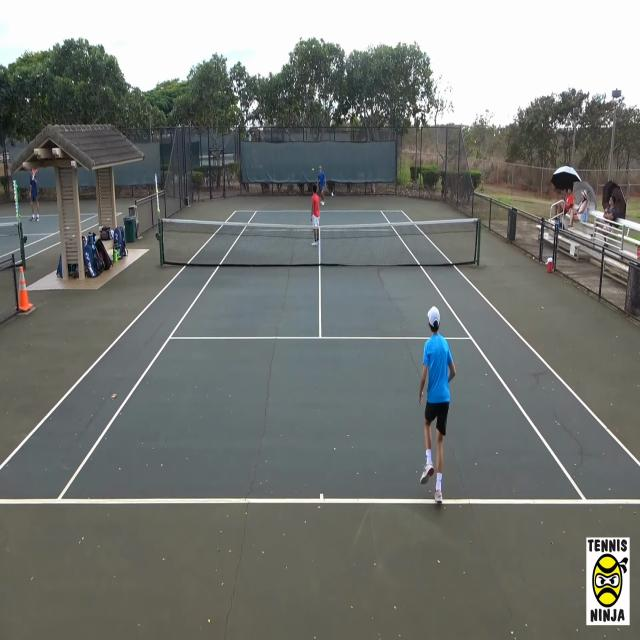ball: (312, 168, 314, 172)
